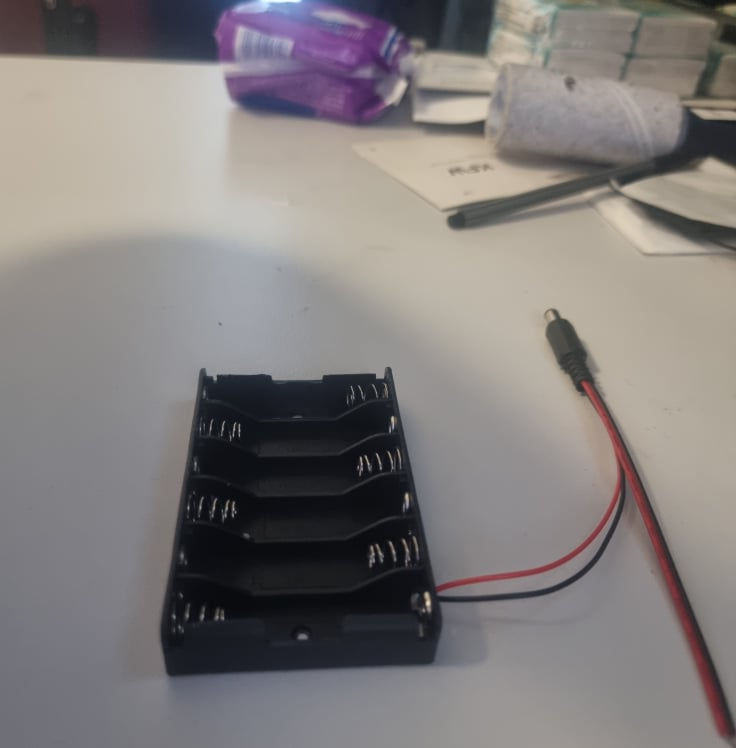BATTERY BOX: (159, 365, 442, 675)
